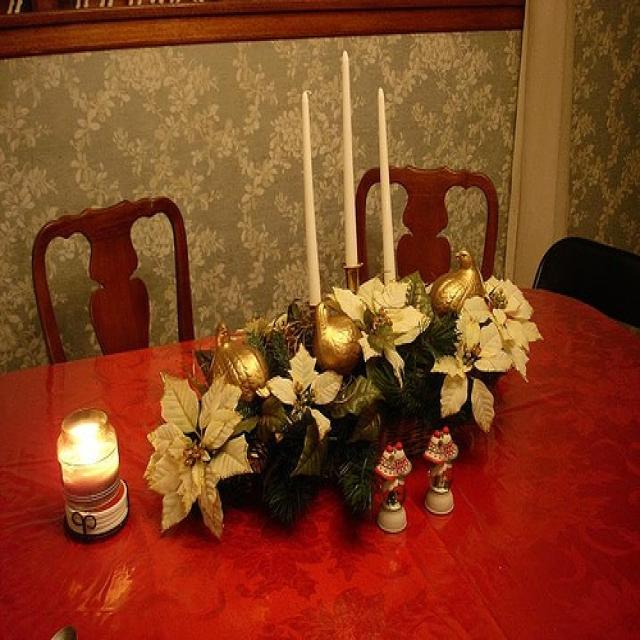chair: (27, 193, 198, 362), (344, 160, 503, 300), (528, 230, 638, 338)
diningtable: (5, 287, 639, 638)
